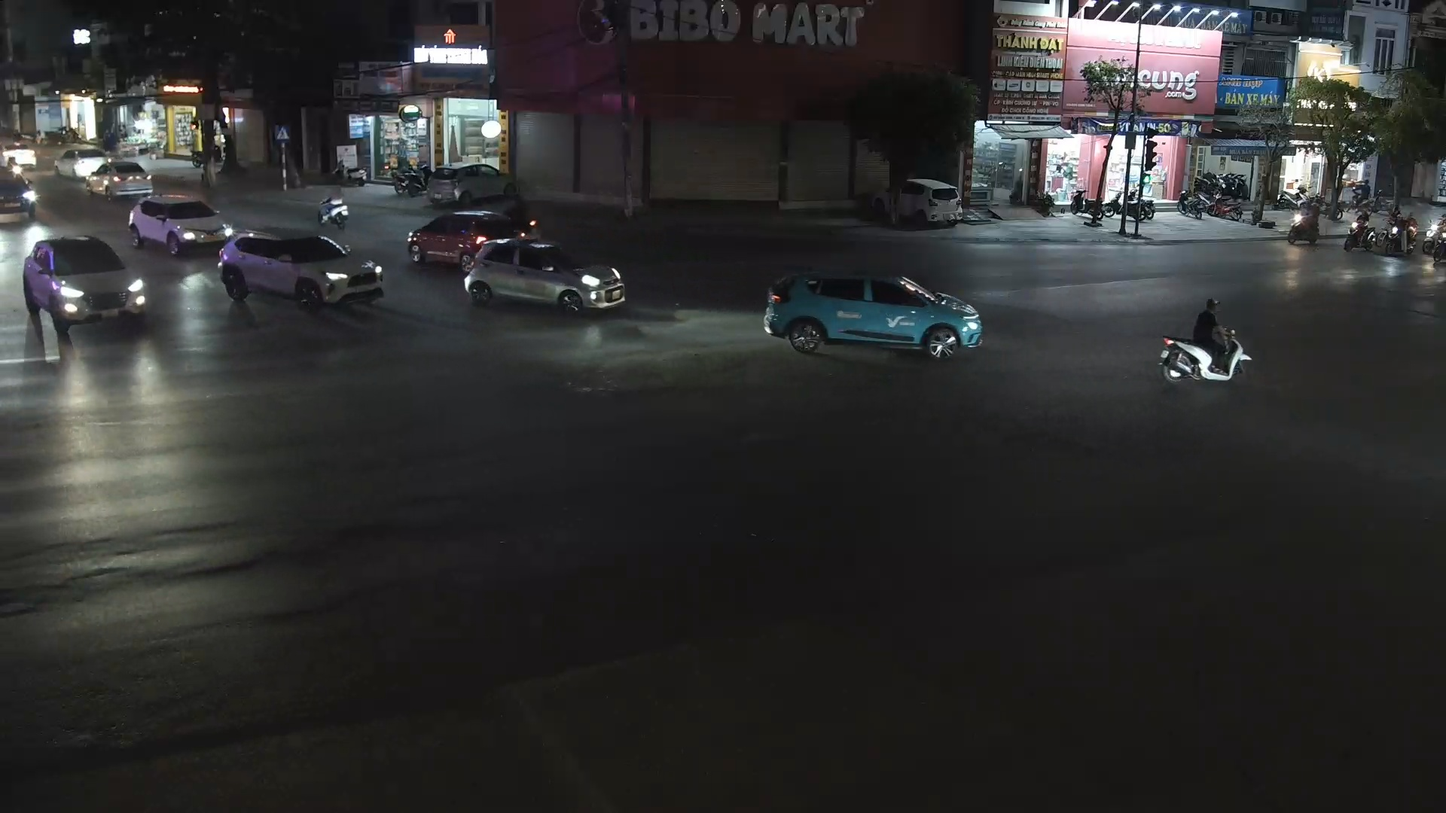car: (764, 270, 984, 362), (217, 225, 387, 316), (462, 233, 629, 319), (20, 230, 150, 340), (405, 201, 538, 274), (126, 188, 233, 257), (0, 166, 39, 226)
motorbike: (1154, 294, 1255, 390)
